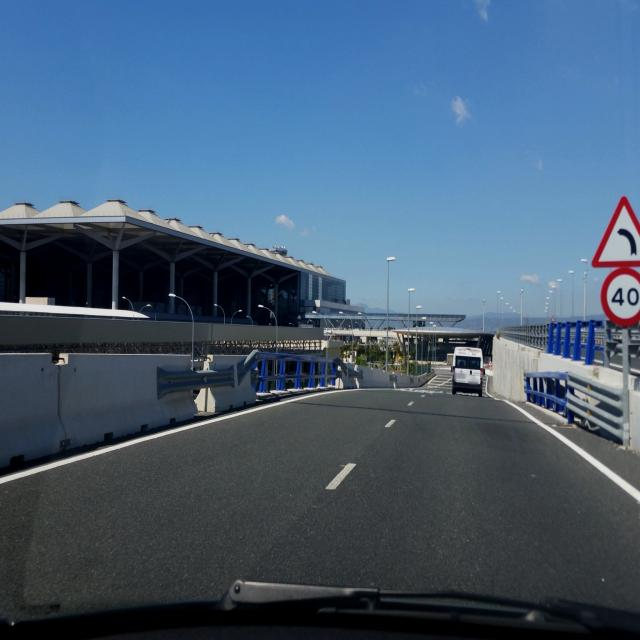car: (451, 347, 484, 396)
